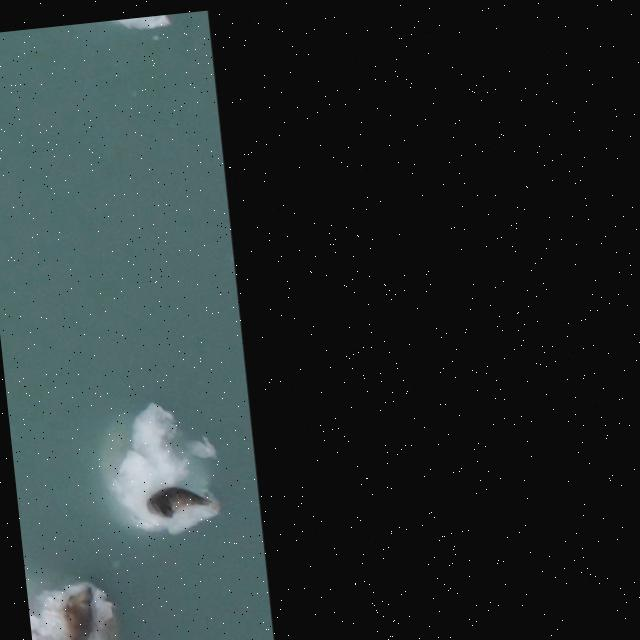seal: (145, 482, 219, 521), (61, 586, 96, 640)
